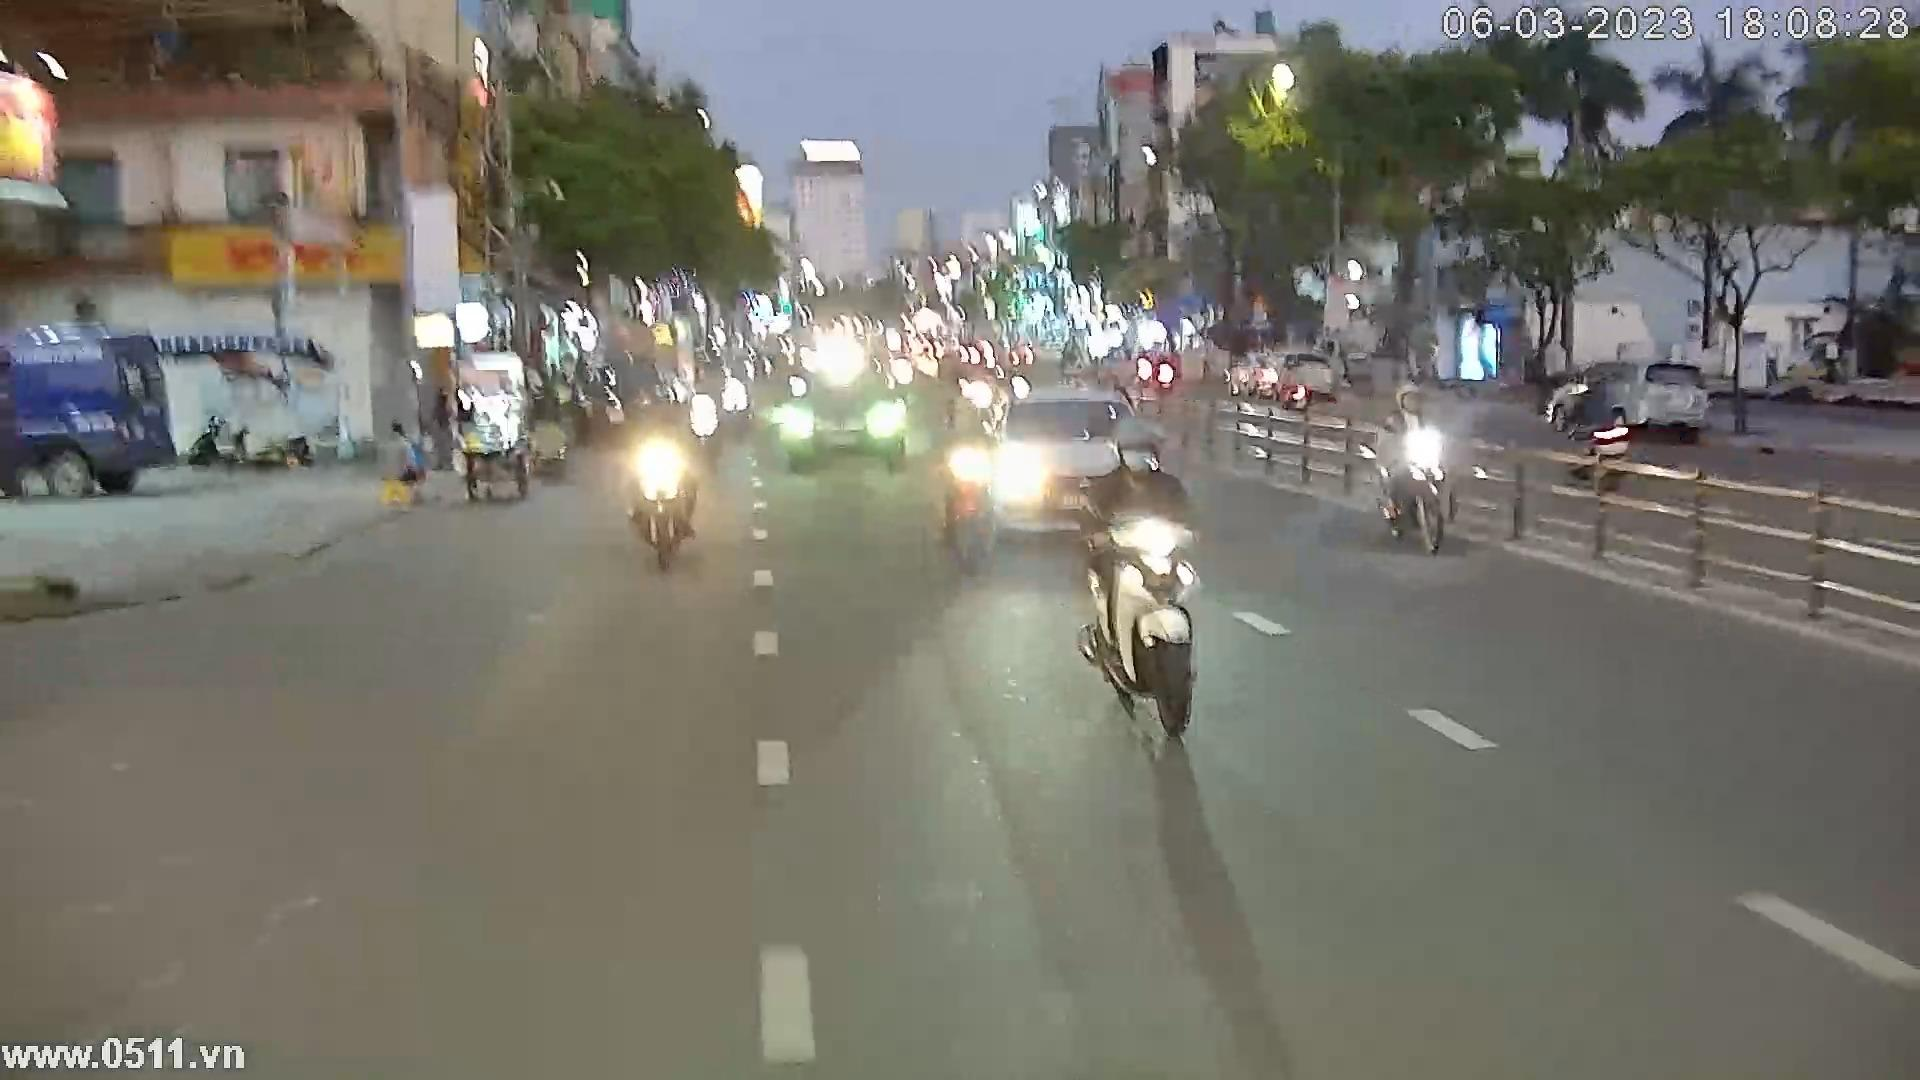car: (951, 376, 1153, 553), (777, 363, 909, 476), (1542, 359, 1710, 435), (1273, 347, 1340, 409)
motorcycle: (1072, 413, 1203, 750), (1365, 384, 1452, 556), (620, 394, 700, 580), (940, 390, 1001, 582)
truck: (0, 322, 181, 505)
